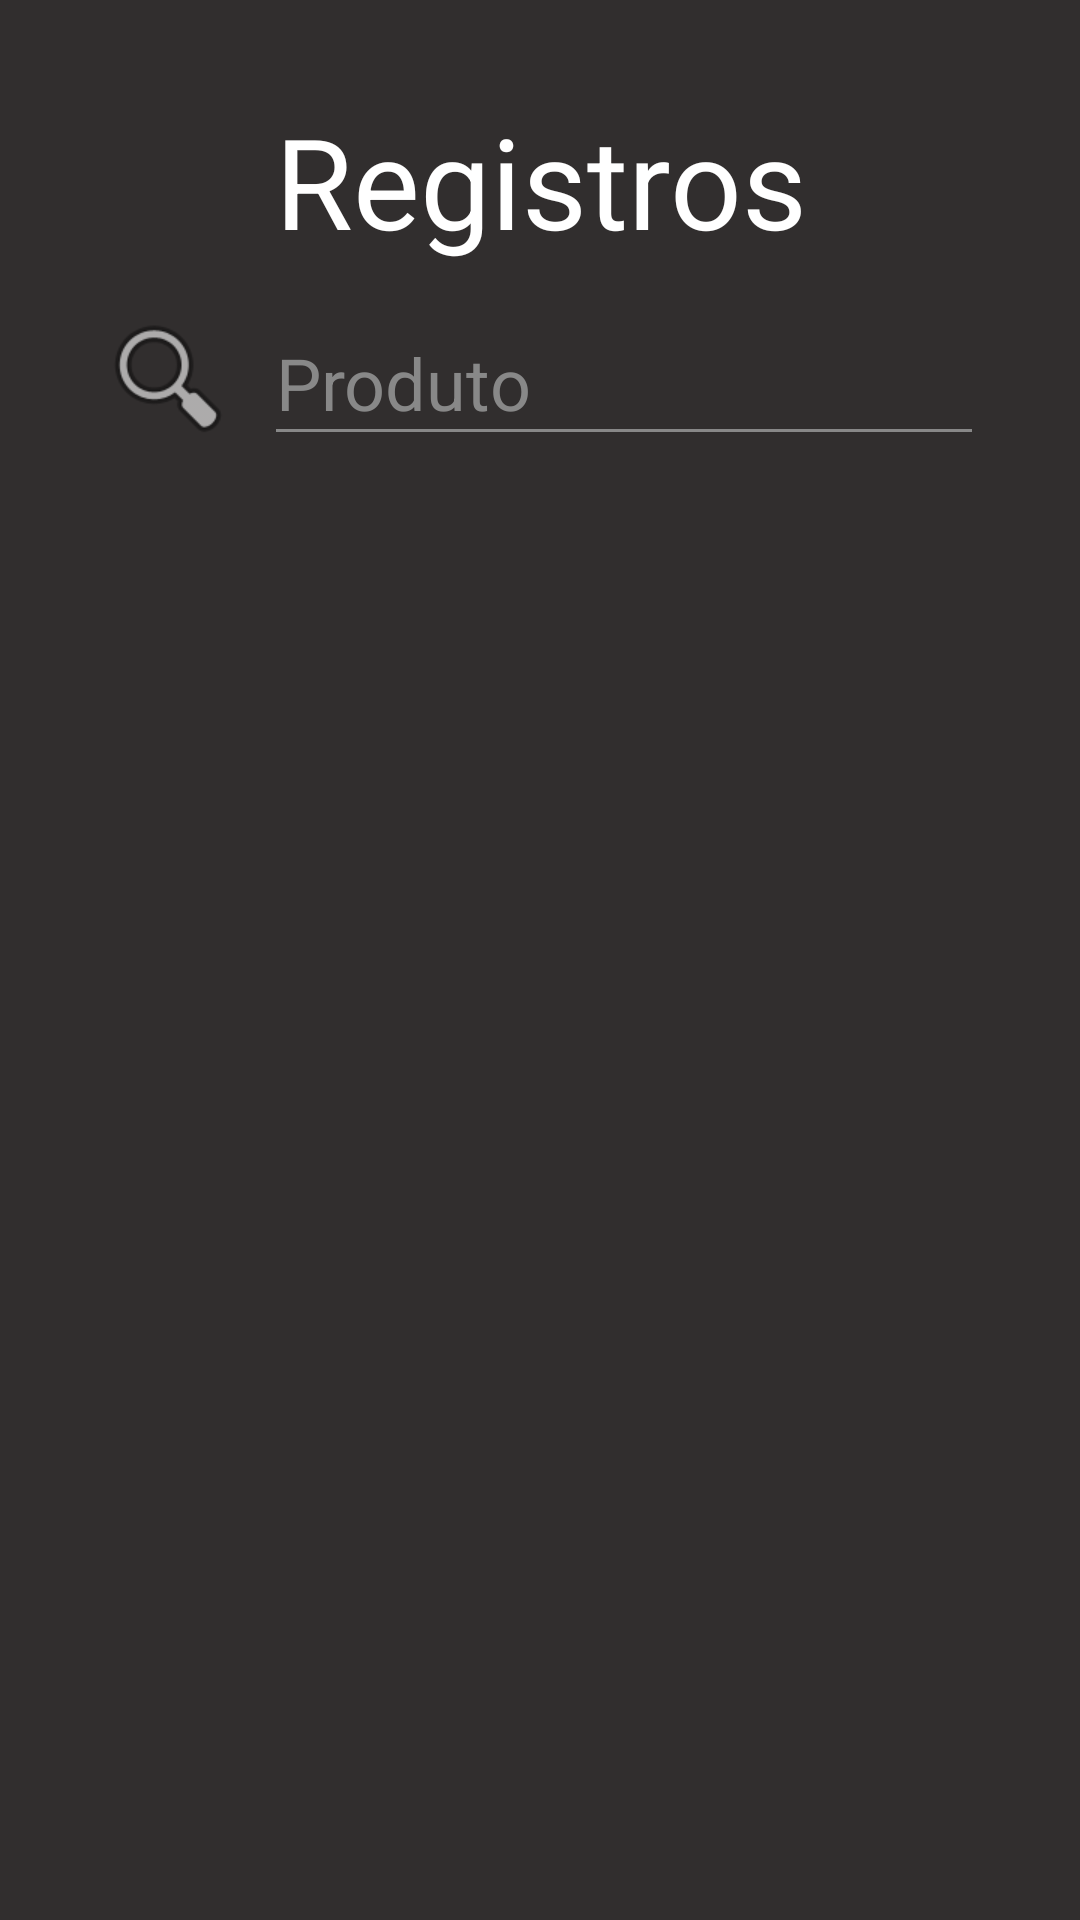

Where icons sit on this 1080 × 1920 app screen, as [x1,y1,x2,y2]:
search: [119,330,216,429]
